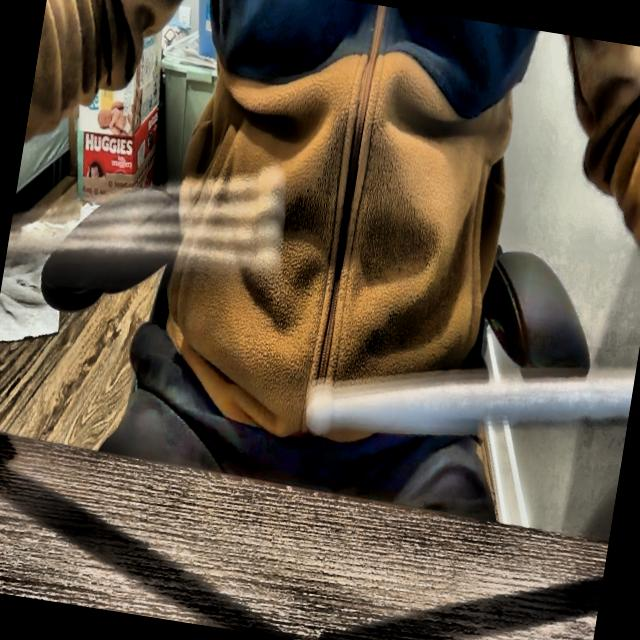Drumstick-Heads: (240, 162, 300, 278), (300, 376, 340, 441)
